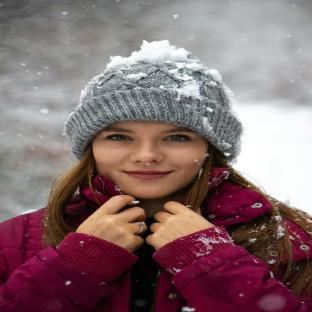Human: (0, 40, 312, 312)
